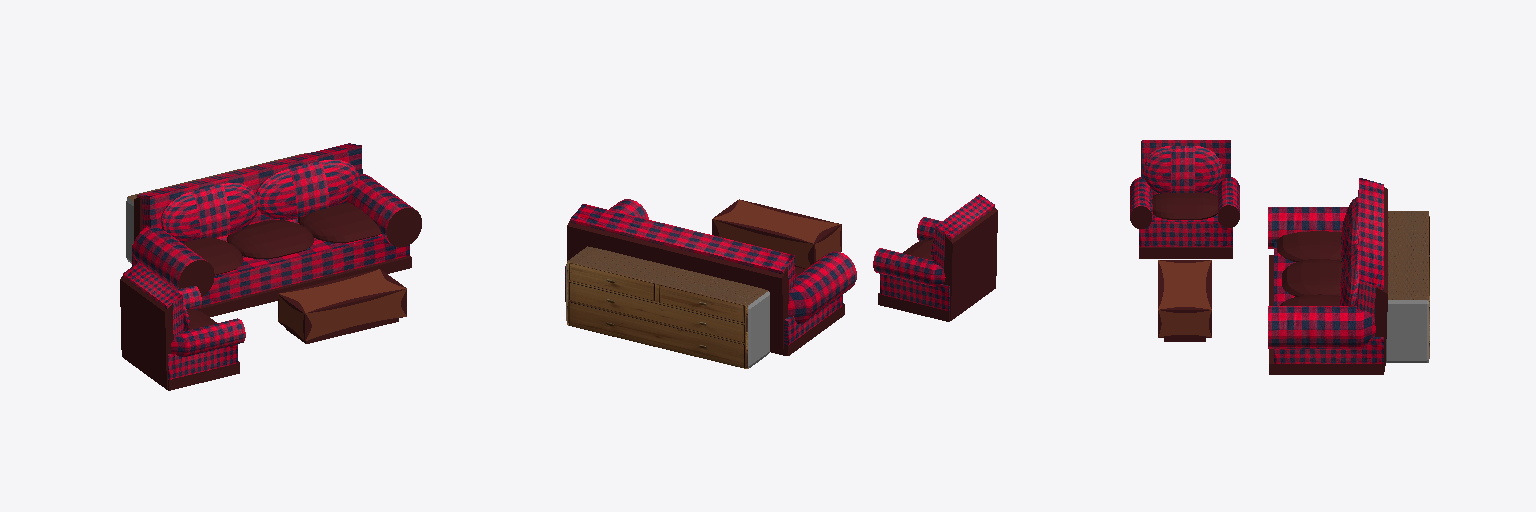
The picture shows the model from 3 angles: view 1: azimuth 30°, elevation 25°; view 2: azimuth 150°, elevation 25°; view 3: azimuth 270°, elevation 25°; orthographic projection.
Visible parts, largest first — view 1: Box006, Box001, Capsule004, Capsule003, Box010, Box002, Cylinder001, Cylinder002, Capsule002, Capsule005, Box003, Cylinder003 (+5 smaller); view 2: Box011, Box004, Box006, Box002, Box010, Cylinder001, Cylinder004, Box007, Box008, Box001, Box009, Box003; view 3: Box011, Cylinder002, Box006, Capsule008, Box002, Box001, Box007, Cylinder001, Capsule002, Capsule001, Capsule006, Box003 (+8 smaller).
Part boxes in pixels (x1,y1,x2,y2): Box006: (278,269,406,340); Box001: (132,218,409,305); Capsule004: (256,159,359,219); Capsule003: (161,183,257,242); Box010: (120,276,173,389); Box002: (137,143,362,228); Cylinder001: (133,226,214,296); Cylinder002: (347,174,421,247); Capsule002: (227,220,313,258); Capsule005: (298,202,381,242); Box003: (199,256,411,316); Cylinder003: (171,318,245,356); Box011: (566,246,769,368); Box004: (567,215,788,355); Box006: (712,199,841,268); Box002: (571,204,795,292); Box010: (944,208,997,320); Cylinder001: (788,251,856,323); Cylinder004: (873,248,945,286); Box007: (880,240,949,311); Box008: (933,194,994,268); Box001: (565,266,842,345); Box009: (878,293,949,321); Box003: (565,292,844,355); Box011: (1386,211,1429,362); Cylinder002: (1268,306,1375,348); Box006: (1158,260,1211,337); Capsule008: (1143,146,1221,193); Box002: (1356,178,1383,318); Box001: (1274,242,1383,363); Box007: (1139,214,1232,246); Cylinder001: (1268,207,1347,248); Capsule002: (1282,259,1342,296); Capsule001: (1277,231,1341,261); Capsule006: (1152,192,1217,219); Box003: (1269,255,1383,374).
Size of the model in its own units: 130 by 35.5 by 105.
8 materials, 6 textured.